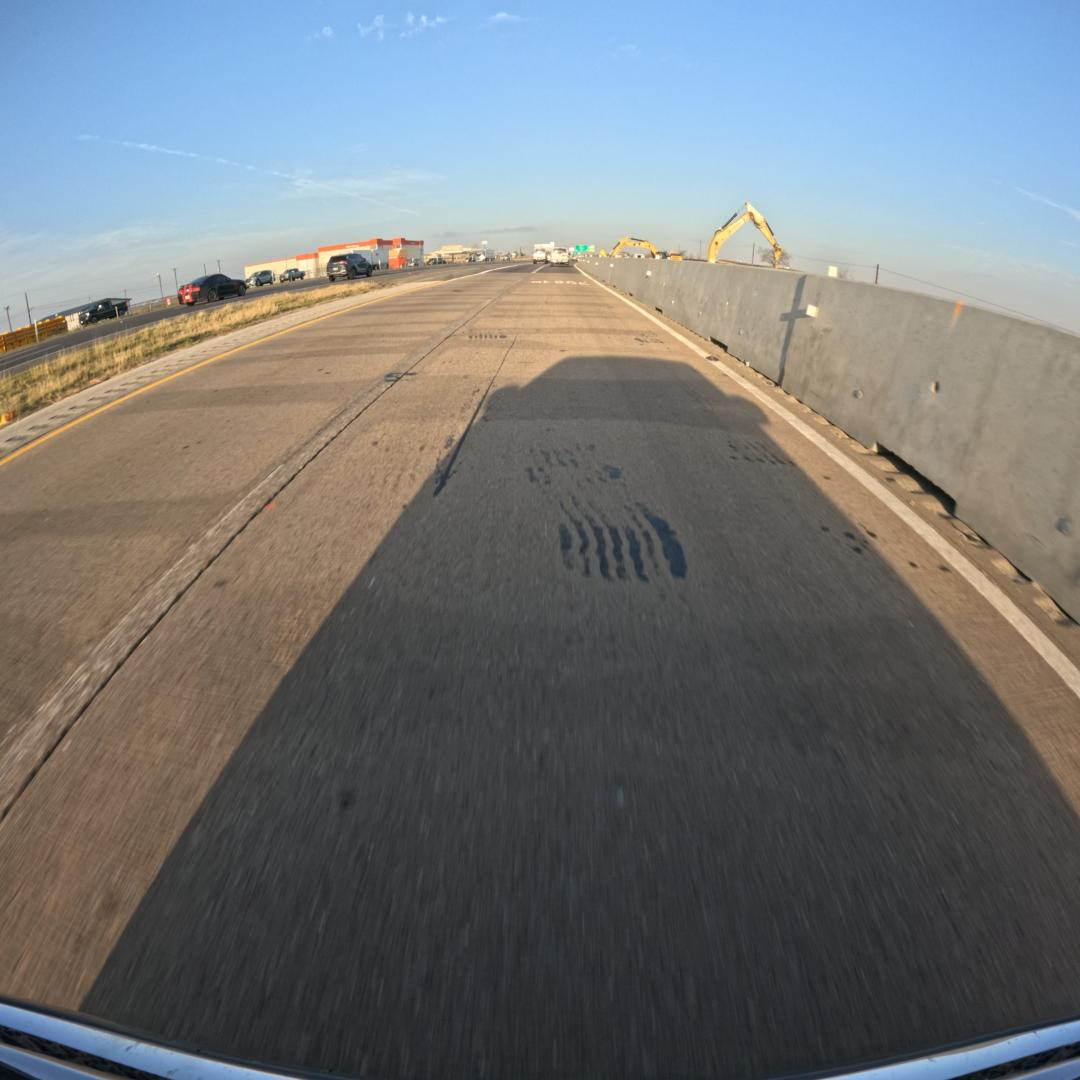lane0: (0, 275, 1080, 1077)
lane1: (0, 272, 521, 820)
